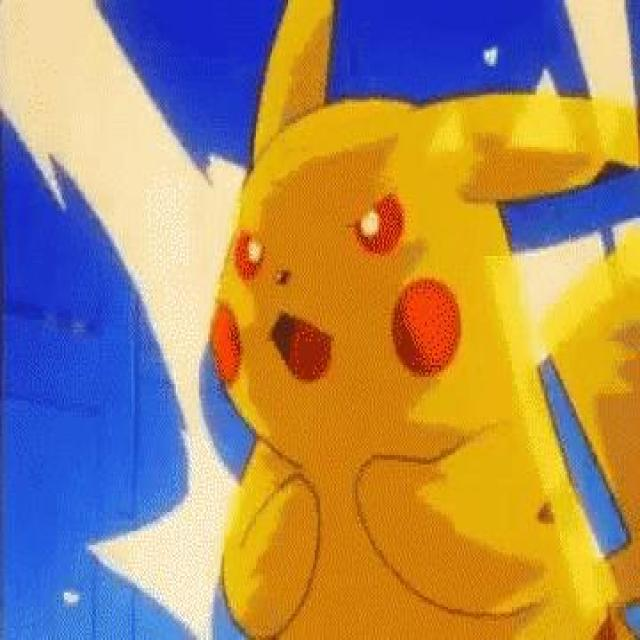pikachu: (211, 0, 640, 640)
